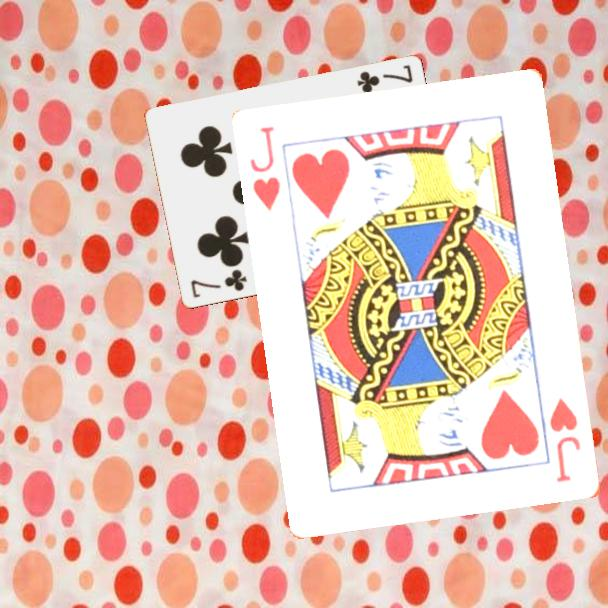c07: (187, 266, 250, 301), (353, 62, 416, 96)
h11: (547, 394, 584, 486), (247, 123, 284, 214)
